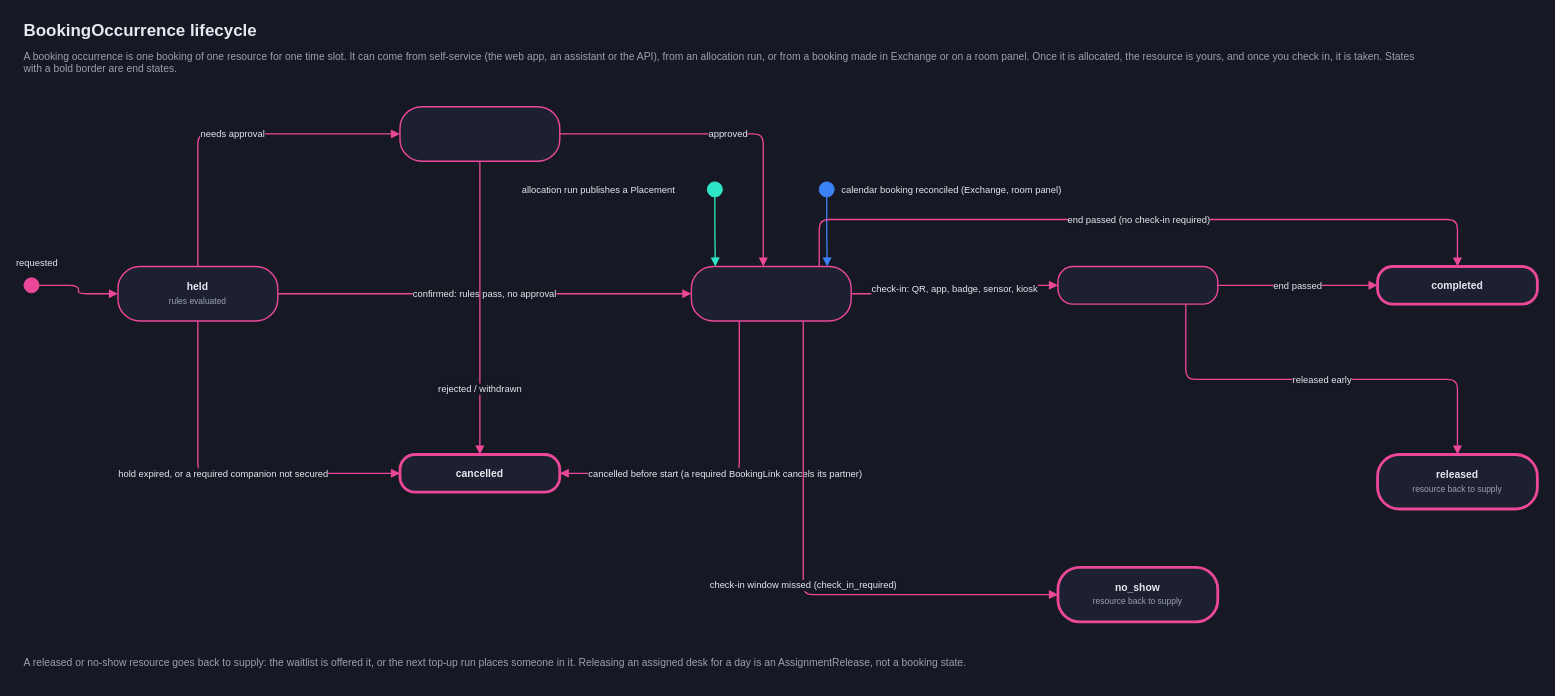
This 1555x696 diagram has some shape labels left out. Each missing label, with the box of its shape:
allocated the resource is yours: (690, 265, 851, 321)
checked_in (taken): (1057, 265, 1218, 304)
pending approval_required: (399, 106, 560, 161)
